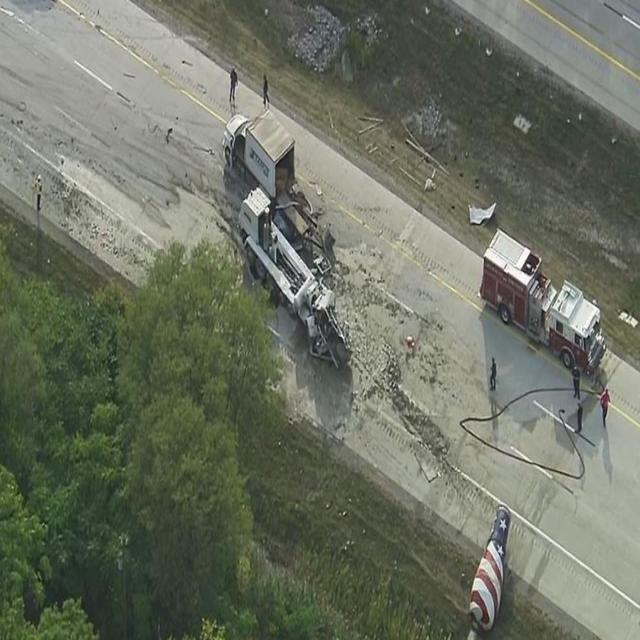Accident: (221, 110, 356, 374)
